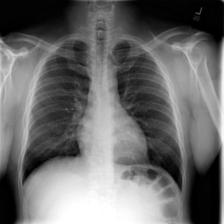normal: (19, 36, 187, 200)
